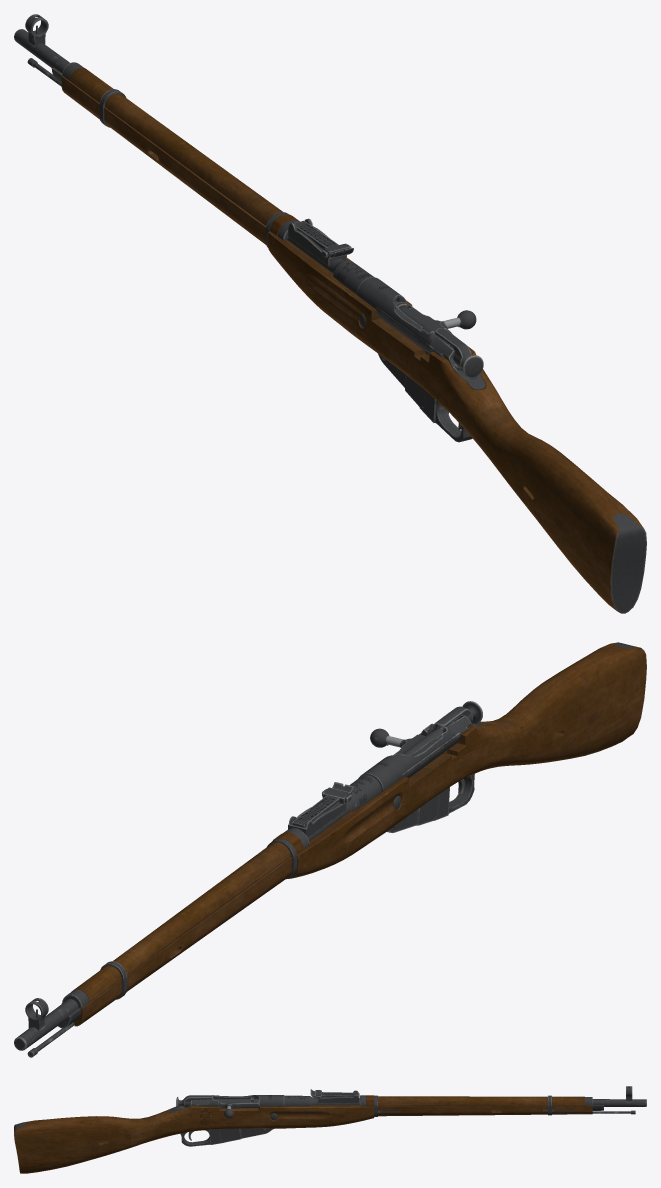
File: mosin.glb
3 views of the same model, one above another, from view 1: azimuth 30°, elevation 25°; view 2: azimuth 150°, elevation 25°; view 3: azimuth 270°, elevation 25° (orthographic). The views are drawn at different scales.
Parts seen in each view (by area): view 1: source-walnut-stock, furniture-Mosin blued metal — MaX3Dd, bolt-Mosin blued metal — MaX3Dd; view 2: source-walnut-stock, furniture-Mosin blued metal — MaX3Dd, bolt-Mosin blued metal — MaX3Dd; view 3: source-walnut-stock, furniture-Mosin blued metal — MaX3Dd, bolt-Mosin blued metal — MaX3Dd.
Boxes of the visible parts, left/top/right/bottom form: source-walnut-stock: left=69, top=67, right=646, bottom=613; furniture-Mosin blued metal — MaX3Dd: left=14, top=14, right=485, bottom=442; bolt-Mosin blued metal — MaX3Dd: left=394, top=300, right=483, bottom=377; source-walnut-stock: left=71, top=642, right=646, bottom=1002; furniture-Mosin blued metal — MaX3Dd: left=14, top=715, right=485, bottom=1057; bolt-Mosin blued metal — MaX3Dd: left=370, top=701, right=482, bottom=755; source-walnut-stock: left=14, top=1095, right=584, bottom=1173; furniture-Mosin blued metal — MaX3Dd: left=169, top=1086, right=646, bottom=1146; bolt-Mosin blued metal — MaX3Dd: left=176, top=1095, right=259, bottom=1118.
Size of the model in its own units: 0.0823 by 0.1862 by 1.23.
3 materials, 2 textured.
